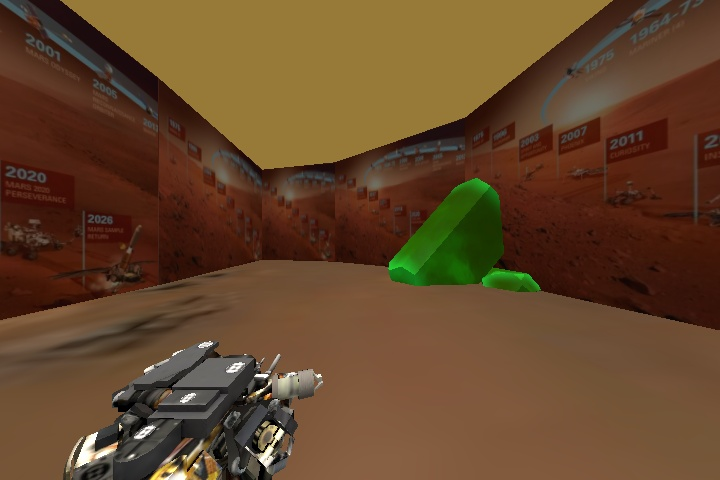gem: (386, 176, 543, 293)
